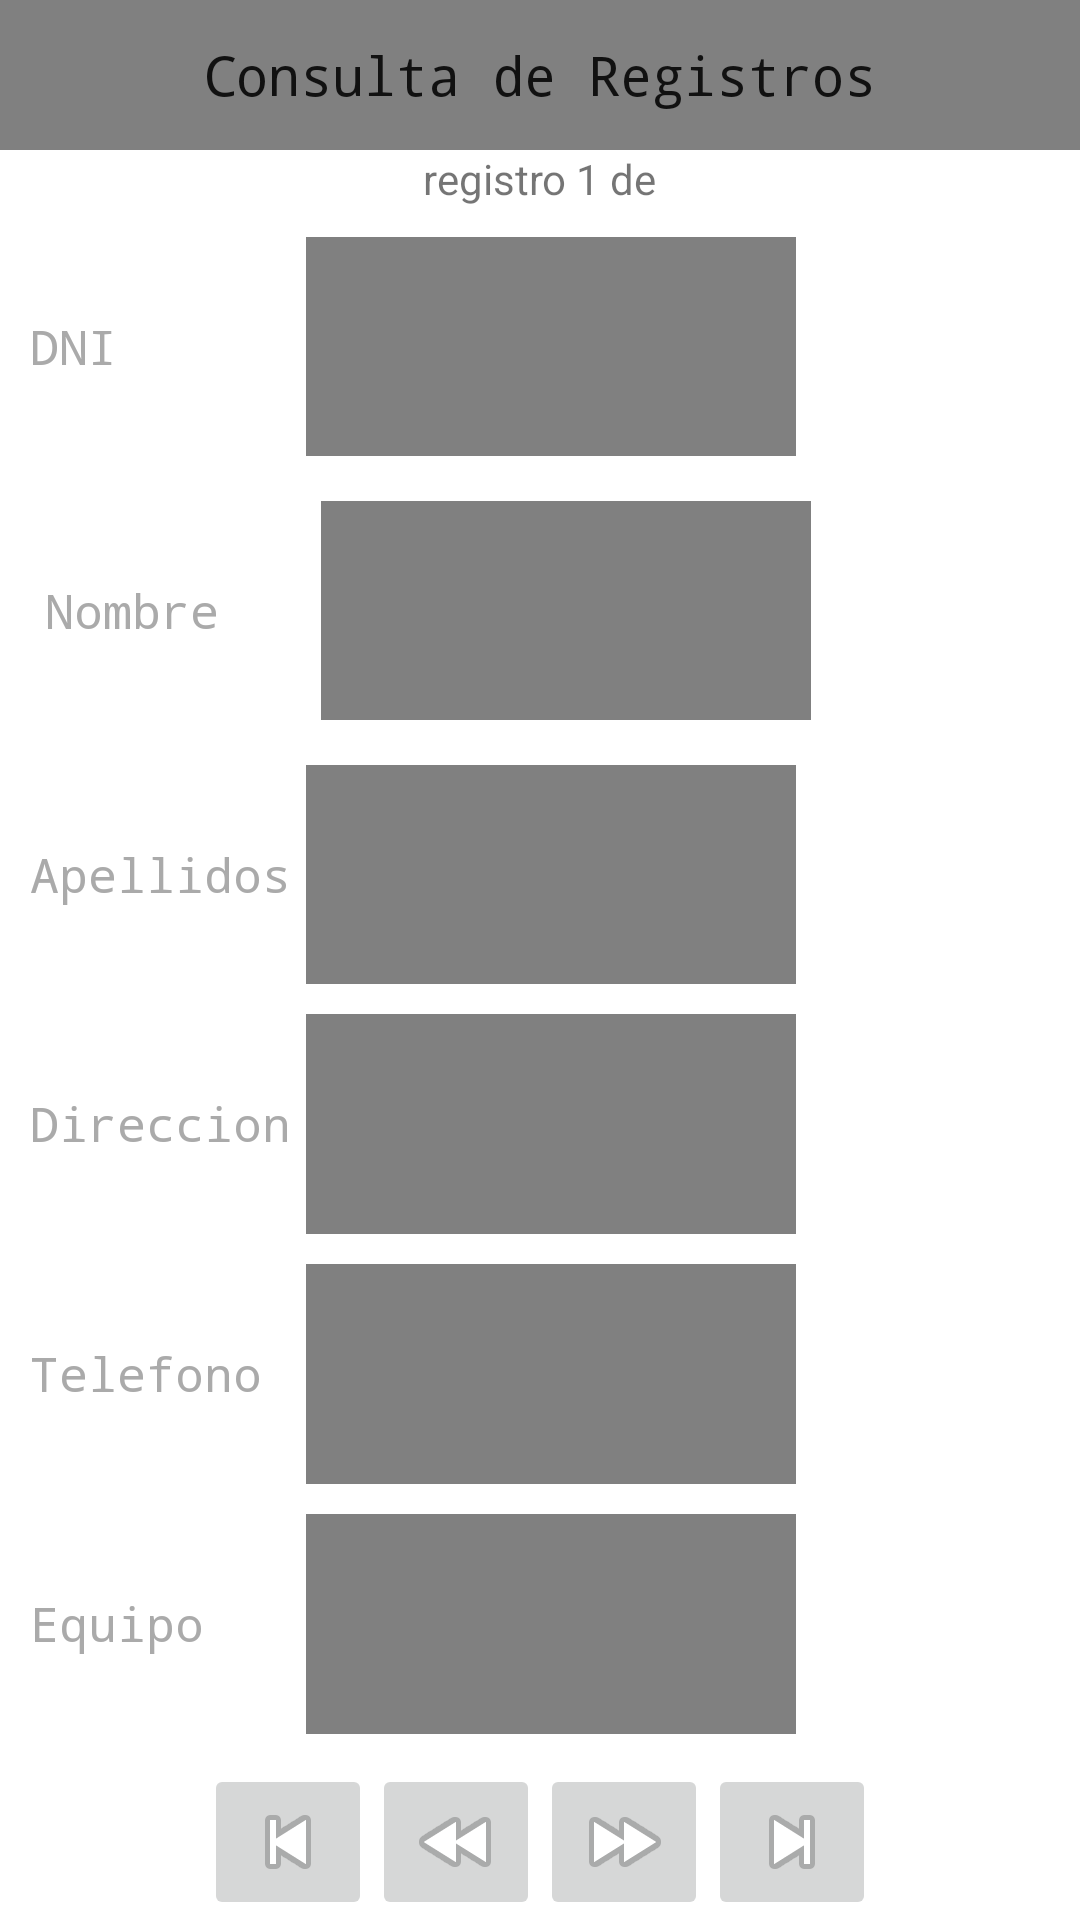

Icon bounding boxes for this 1080*1920 phone screenshot, format (x1, y1, x2, y2):
next: (720, 1782, 864, 1902)
previous: (216, 1782, 360, 1902)
rew: (384, 1782, 528, 1902)
